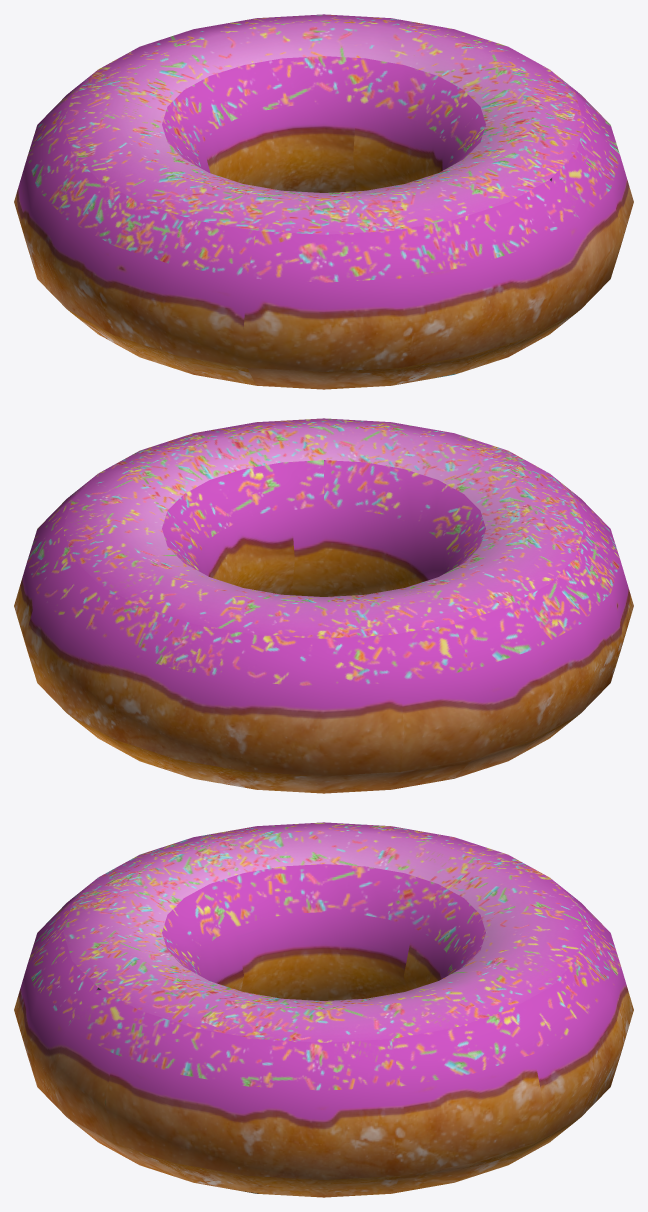
Rendered from doughnut.obj.
The picture shows the model from 3 angles, top to bottom: view 1: azimuth 30°, elevation 25°; view 2: azimuth 150°, elevation 25°; view 3: azimuth 270°, elevation 25°; orthographic projection.
Visible parts, largest first — view 1: Torus01; view 2: Torus01; view 3: Torus01.
Part boxes in pixels (left/top/right/bottom): Torus01: left=14, top=14, right=633, bottom=389; Torus01: left=14, top=418, right=633, bottom=793; Torus01: left=14, top=822, right=633, bottom=1197.
Size of the model in its own units: 44.67 by 14.21 by 44.67.
